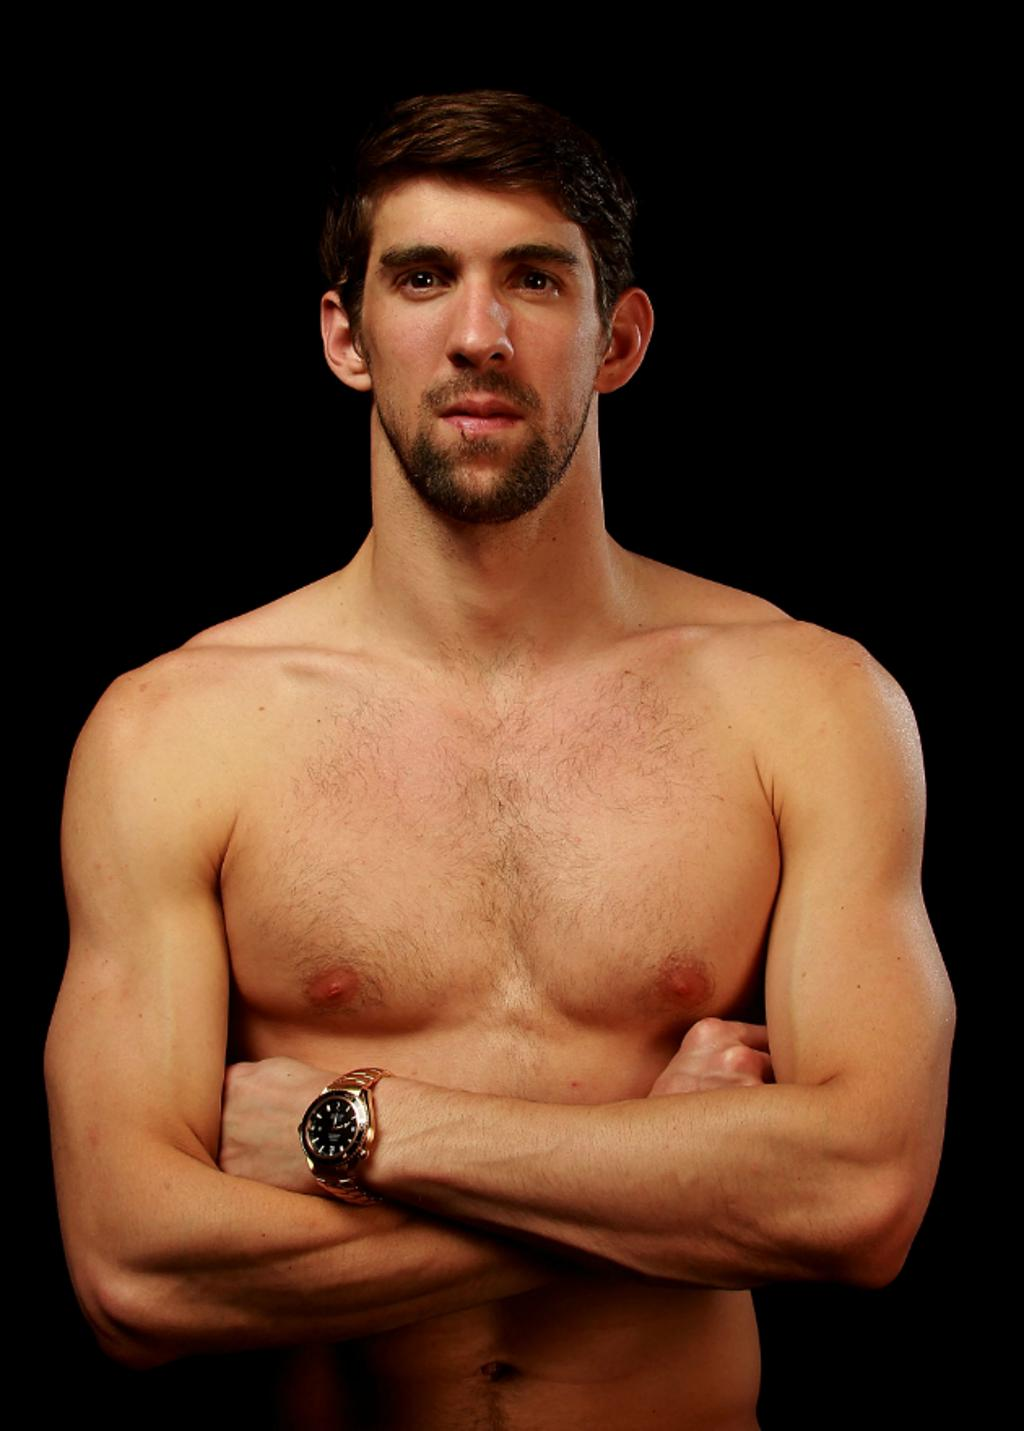face: (374, 176, 600, 530)
